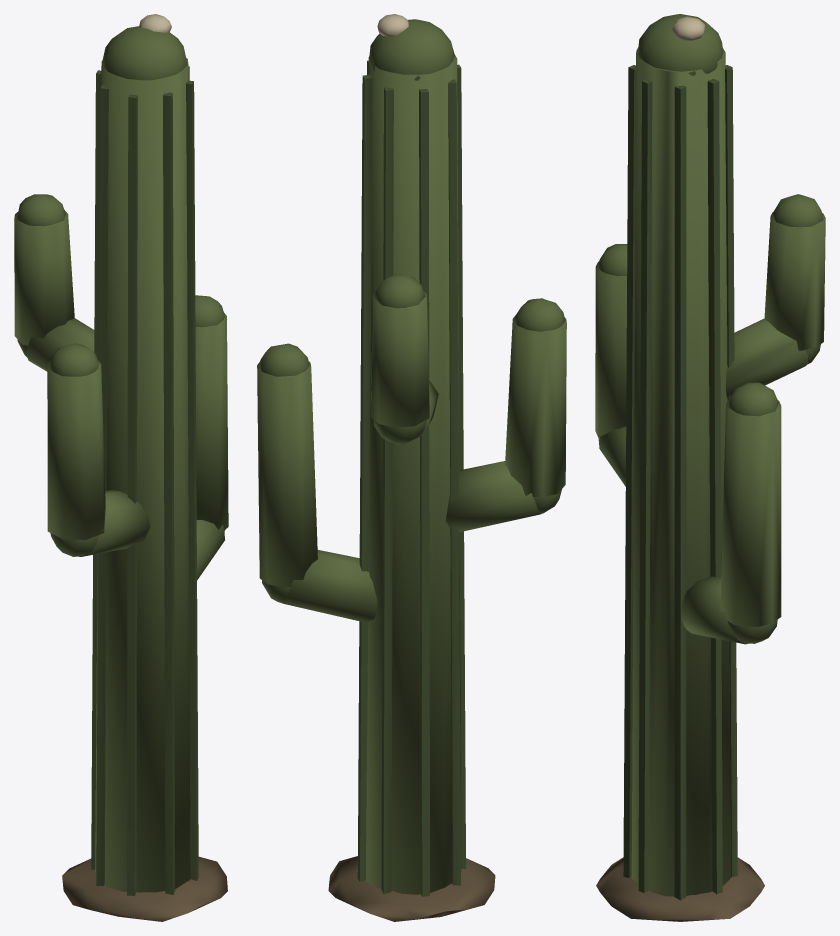
Rendered from saguaro_b_lod1.glb.
3 renders of one model, left to right at view 1: azimuth 30°, elevation 25°; view 2: azimuth 150°, elevation 25°; view 3: azimuth 270°, elevation 25°, orthographic.
Parts seen in each view (by area): view 1: Surface.001; view 2: Surface.001; view 3: Surface.001.
Boxes of the visible parts, x1,y1,x2,y2 form: Surface.001: (14, 14, 228, 921); Surface.001: (257, 14, 566, 921); Surface.001: (595, 14, 825, 921).
Bounding box in the file's own units: 1.68 × 5.92 × 1.39.
